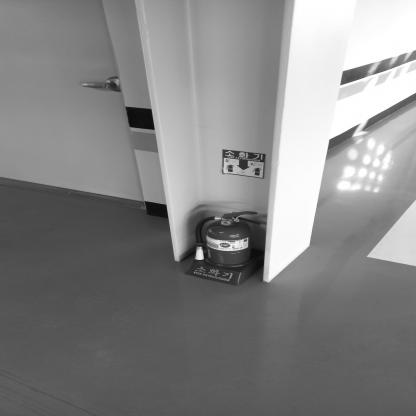FE: (182, 211, 258, 285)
